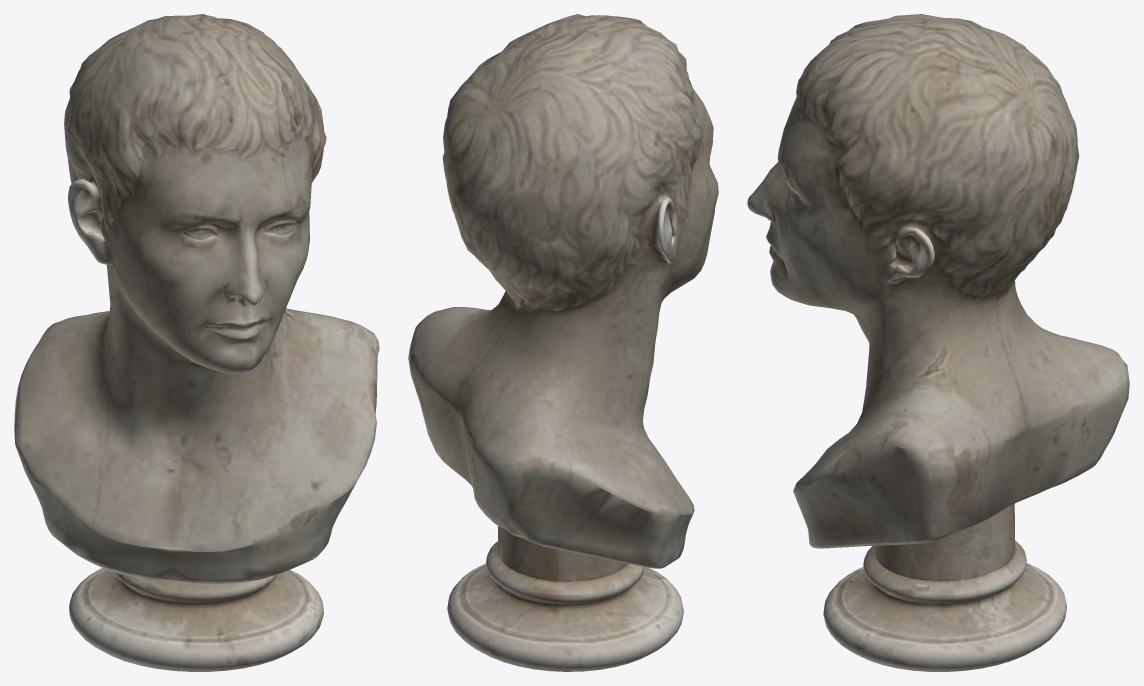
The model's file is isl_bust.glb.
3 renders of one model, left to right at view 1: azimuth 30°, elevation 25°; view 2: azimuth 150°, elevation 25°; view 3: azimuth 270°, elevation 25°, orthographic. The views are drawn at different scales.
Visible parts, largest first — view 1: marble_bust_01; view 2: marble_bust_01; view 3: marble_bust_01.
Boxes of the visible parts, box(x1,y1,x2,y2) form: marble_bust_01: box(14, 14, 379, 671); marble_bust_01: box(408, 14, 718, 671); marble_bust_01: box(747, 14, 1129, 671).
Bounding box in the file's own units: 0.2717 × 0.515 × 0.2998.
1 material, 1 textured.
